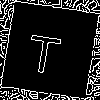T: (25, 25, 64, 75)
